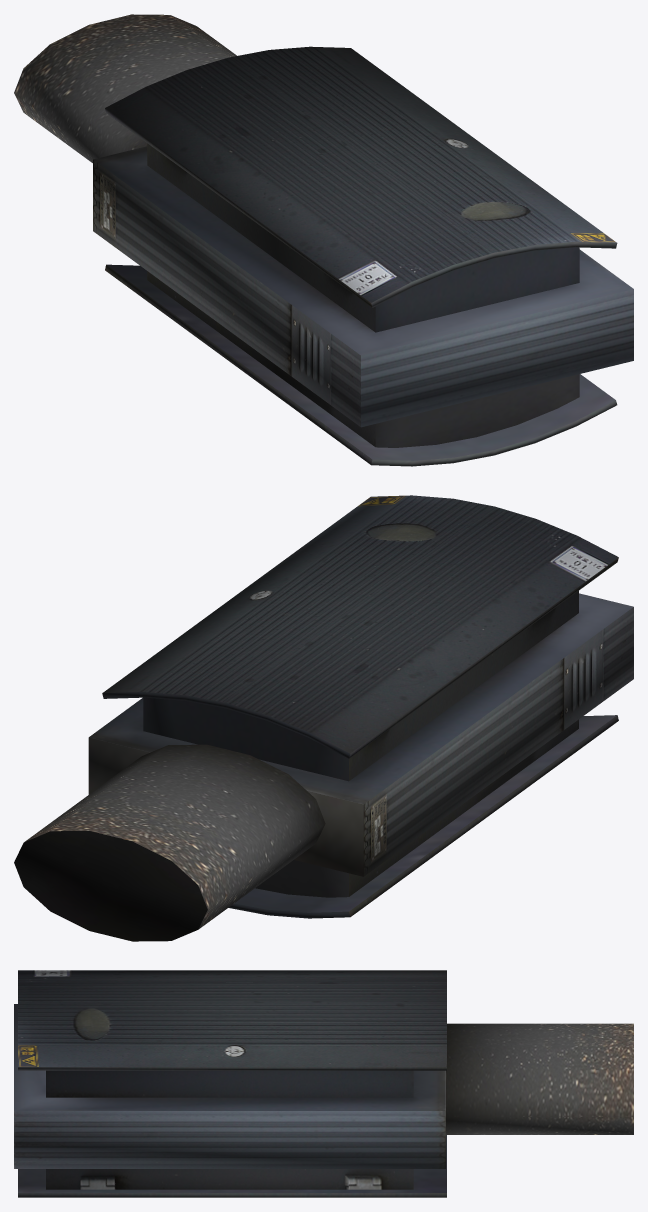
File: RTF4001220720_0425L_01_normalization.obj
The picture shows the model from 3 angles, top to bottom: view 1: azimuth 30°, elevation 25°; view 2: azimuth 150°, elevation 25°; view 3: azimuth 270°, elevation 25°; orthographic projection. The views are drawn at different scales.
Parts seen in each view (by area): view 1: RTF4001220720_0425S_01; view 2: RTF4001220720_0425S_01; view 3: RTF4001220720_0425S_01.
Part boxes in pixels (x1,y1,x2,y2): RTF4001220720_0425S_01: [14, 14, 633, 466]; RTF4001220720_0425S_01: [14, 495, 633, 941]; RTF4001220720_0425S_01: [14, 970, 633, 1197].
Bounding box in the file's own units: 0.3658 × 0.2598 × 0.8937.
Materials: 1 (1 with a texture image).
